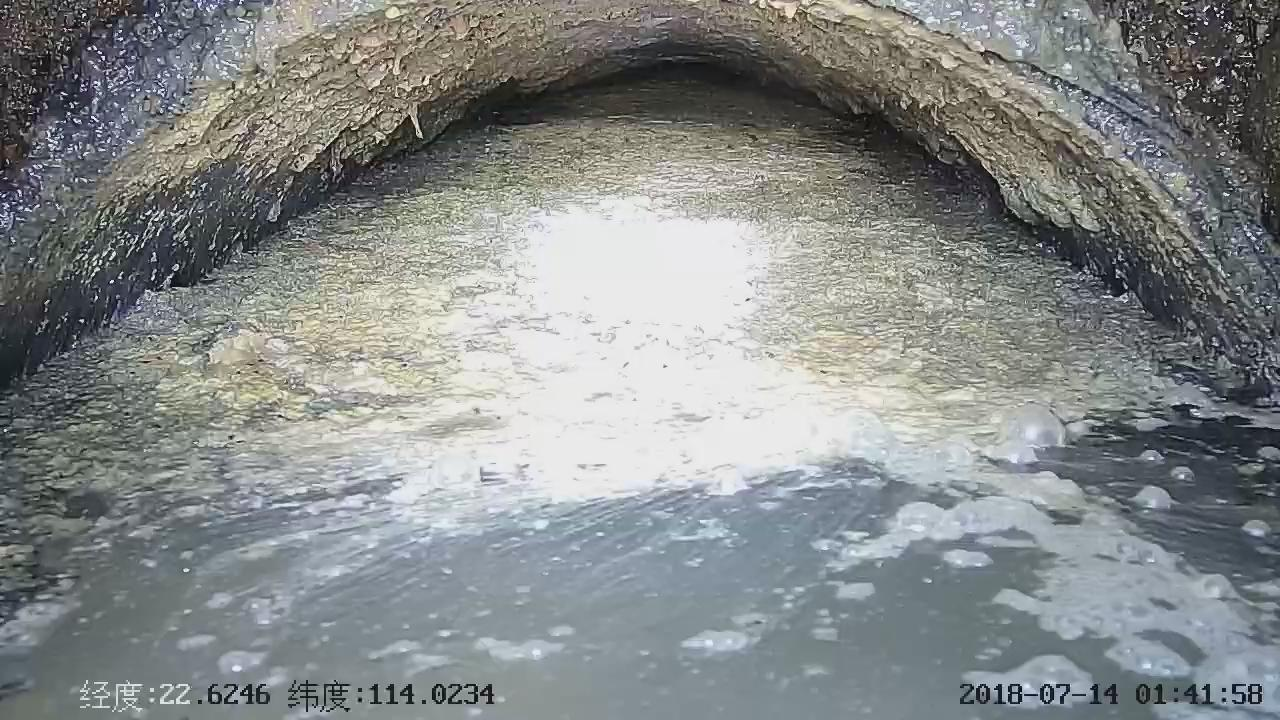FZ: (0, 65, 1279, 719)
JG: (0, 0, 1279, 382)
